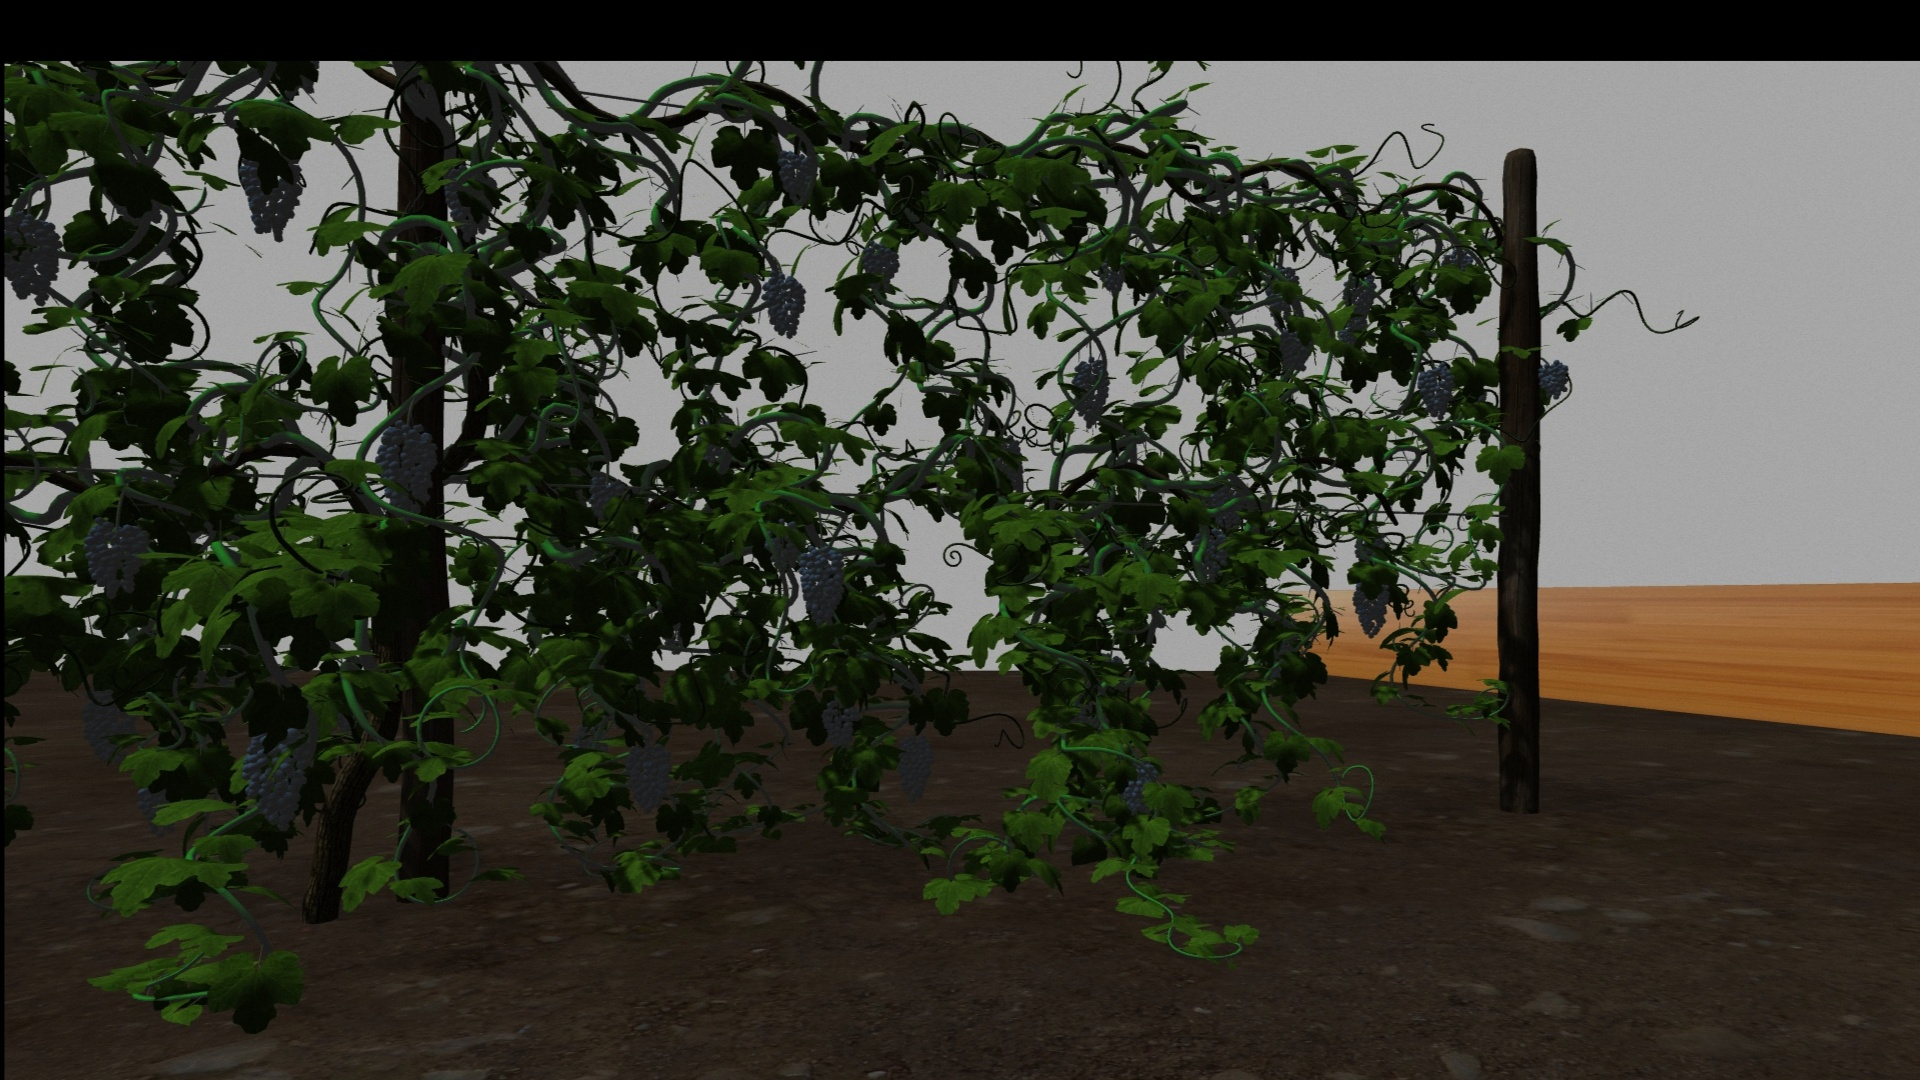grape: (237, 724, 315, 837), (373, 421, 438, 520), (237, 154, 307, 240), (83, 517, 146, 603), (7, 212, 62, 305), (440, 167, 495, 240), (80, 691, 131, 764), (624, 741, 673, 814), (800, 545, 845, 622), (761, 273, 807, 338), (1069, 356, 1110, 429), (891, 733, 934, 800), (775, 150, 818, 208), (1414, 361, 1455, 419), (1352, 582, 1390, 640), (820, 702, 861, 753), (1124, 760, 1159, 815), (764, 525, 800, 574), (860, 240, 901, 284), (589, 475, 625, 524), (1538, 357, 1572, 401), (1279, 328, 1313, 372)
